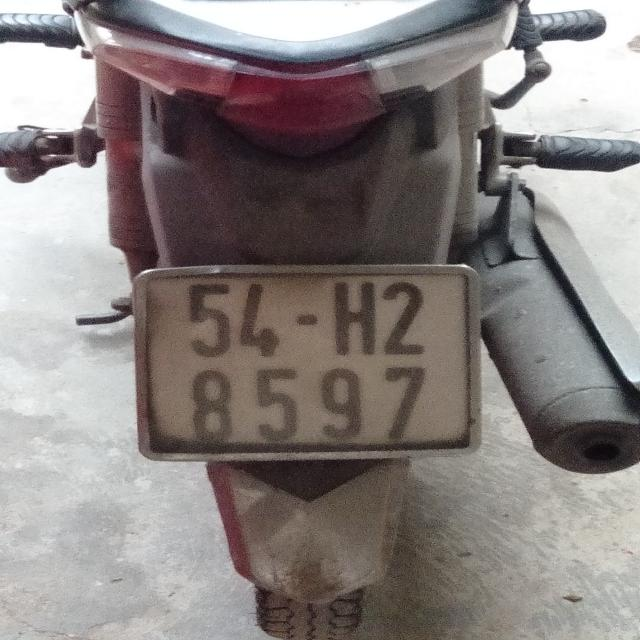bien_trang: (130, 267, 477, 454)
